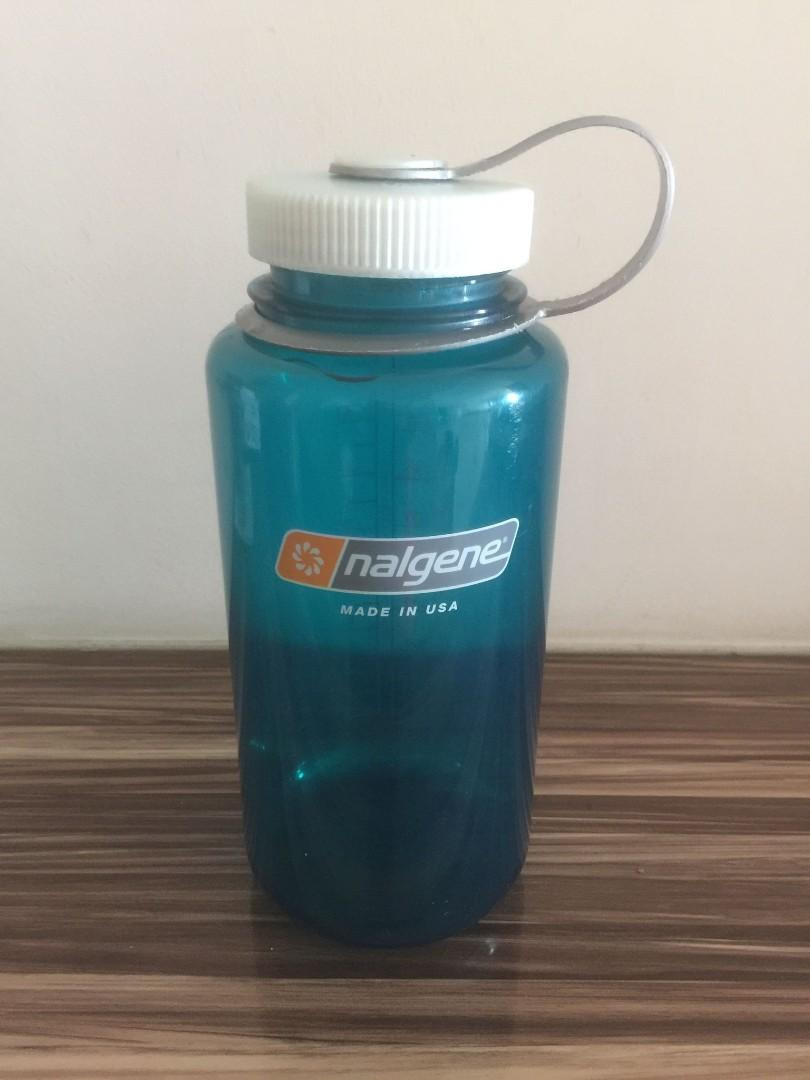bottle: (203, 114, 680, 950)
